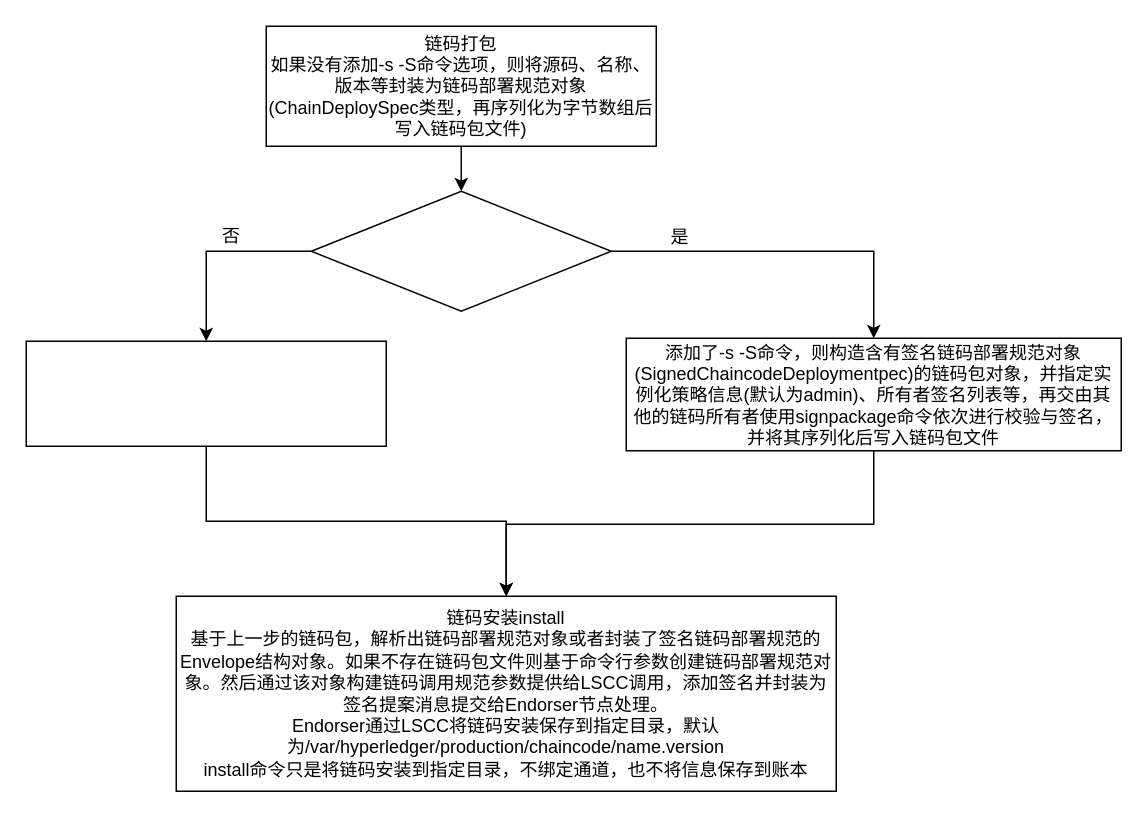
Image size: 1148x818. Some labels were removed from this diagram. Each missing label, with the box of its shape:
如果没有添加-s -S命令选项，则将源码、名称、版本等封装为链码部署规范对象(ChainDeploySpec类型，再序列化为字节数组后写入链码包文件): (25, 340, 386, 446)
打包时是否使用-s -S参数: (310, 190, 611, 311)
